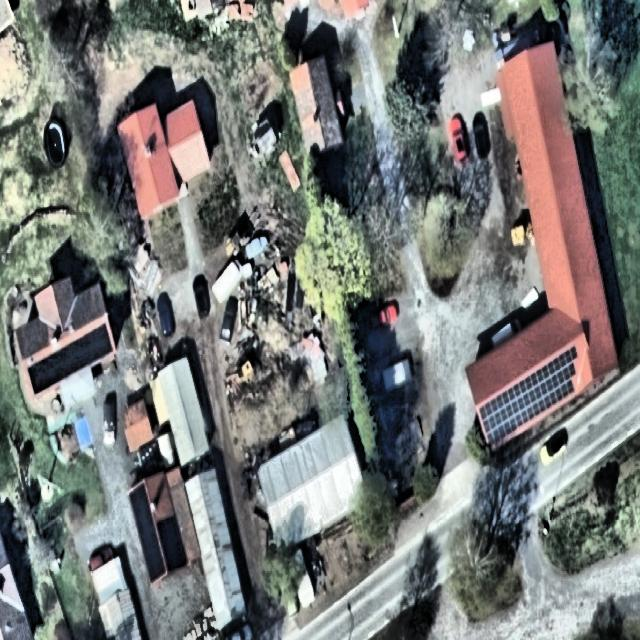roof_pv: (516, 362, 559, 423), (477, 387, 521, 445), (20, 348, 62, 403), (158, 514, 188, 575), (555, 345, 583, 401), (137, 525, 164, 583), (58, 334, 92, 376), (128, 480, 155, 530), (86, 318, 115, 364)
